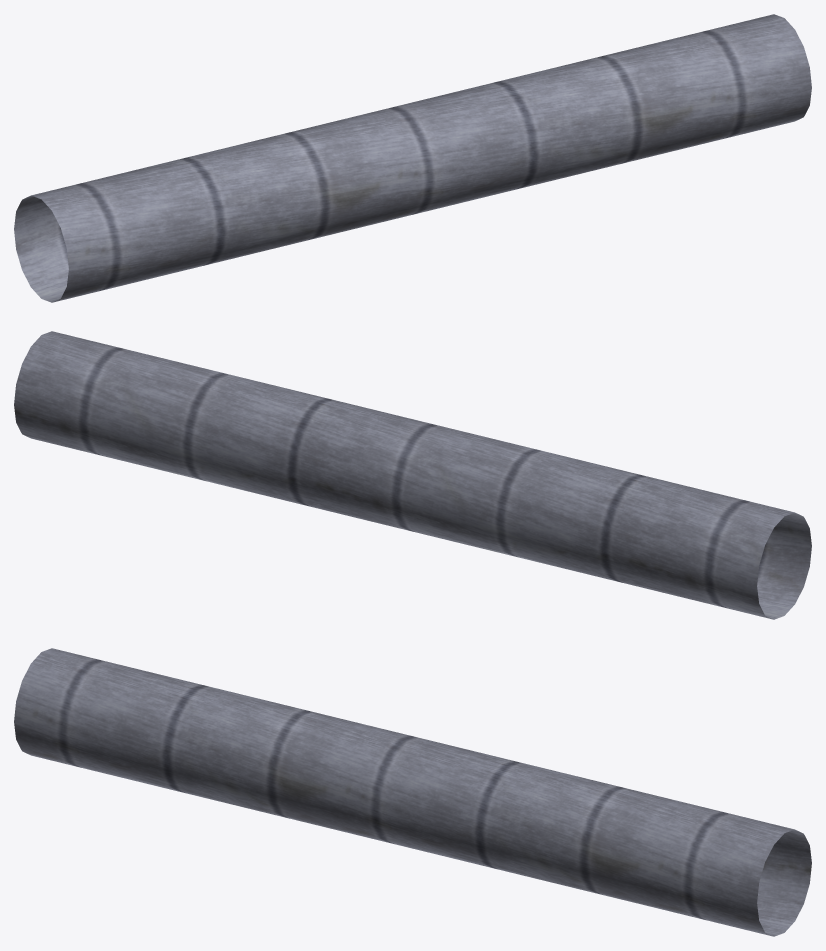
The model's file is Pipes_3.fbx.
The picture shows the model from 3 angles, top to bottom: view 1: azimuth 30°, elevation 25°; view 2: azimuth 150°, elevation 25°; view 3: azimuth 330°, elevation 25°; orthographic projection.
Parts seen in each view (by area): view 1: Pipes3; view 2: Pipes3; view 3: Pipes3.
Boxes of the visible parts, x1,y1,x2,y2 form: Pipes3: [14, 14, 811, 302]; Pipes3: [14, 331, 811, 619]; Pipes3: [14, 648, 811, 936].
Bounding box in the file's own units: 1125 × 144 × 144.
